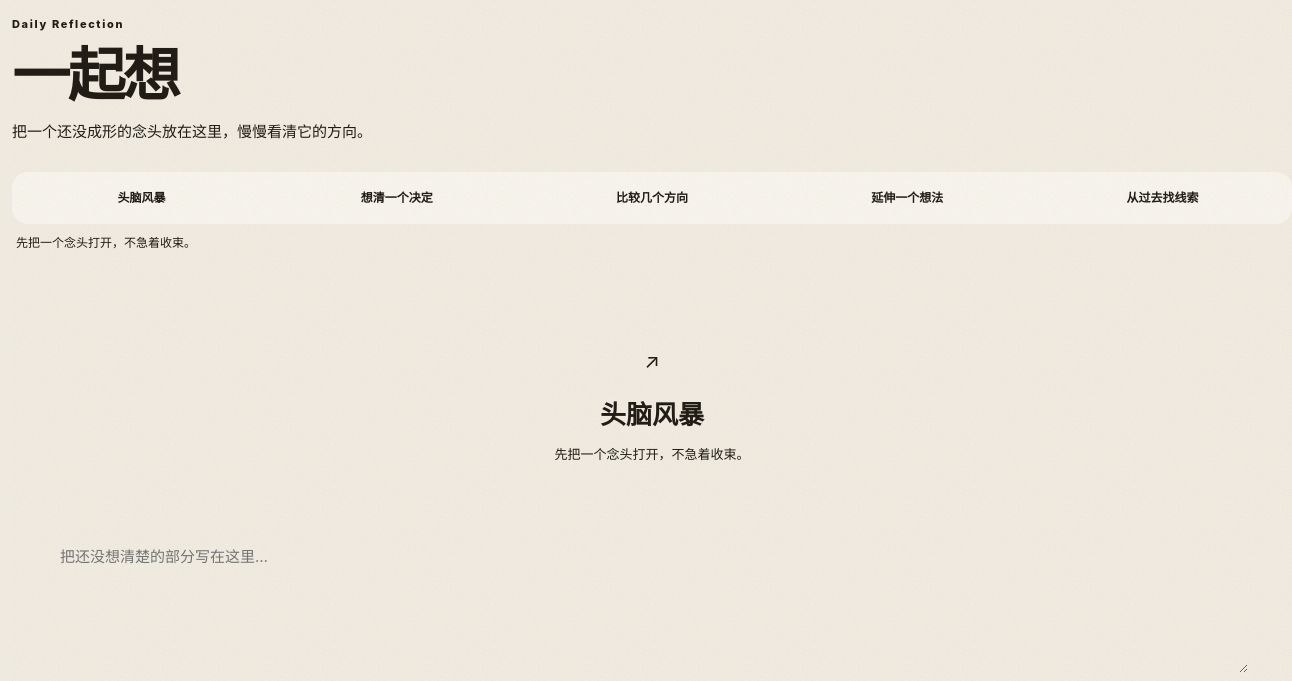
Test: Reflection thinking UI › uses personal retrieval by default for brainstorm but answers without a match
This screenshot has width=1292, height=681.
Step 1. Type "继续想这个问题。" into the text box named "想一起推演什么" → (652, 607), box [56,541,1248,673]
(page scrolled)
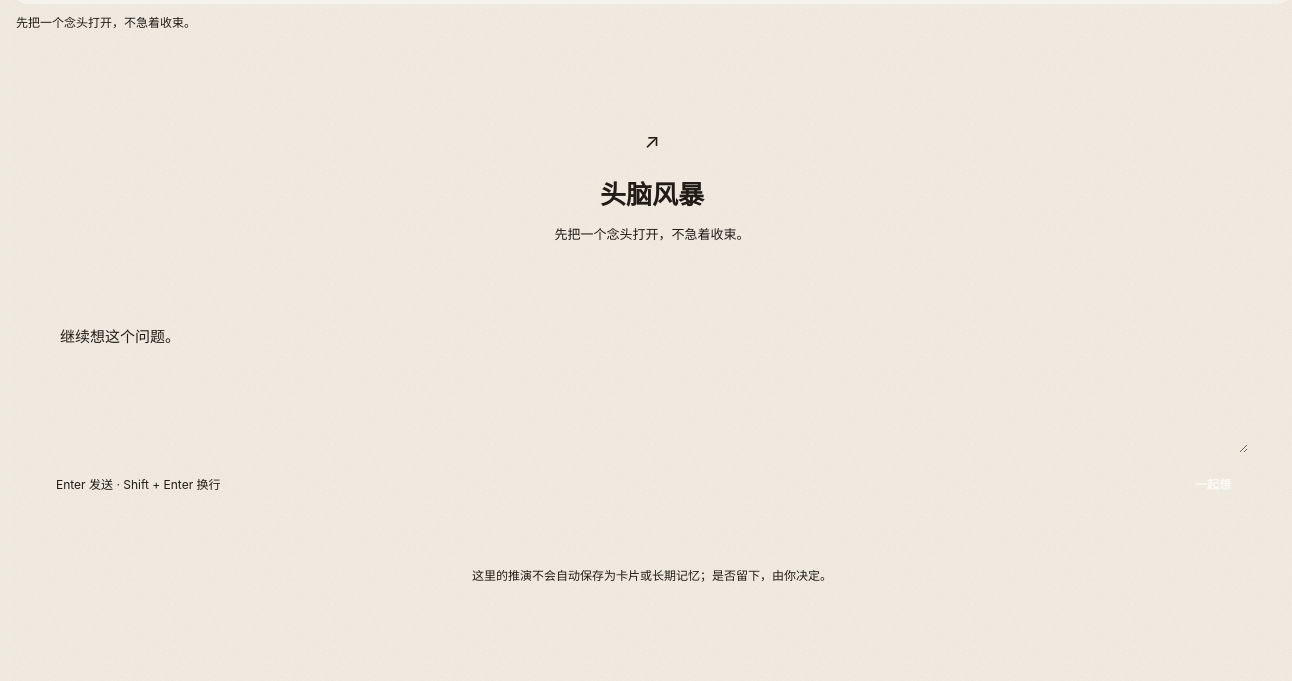
Step 2. Click the button "一起想" → (1213, 485), box [1178,463,1248,507]
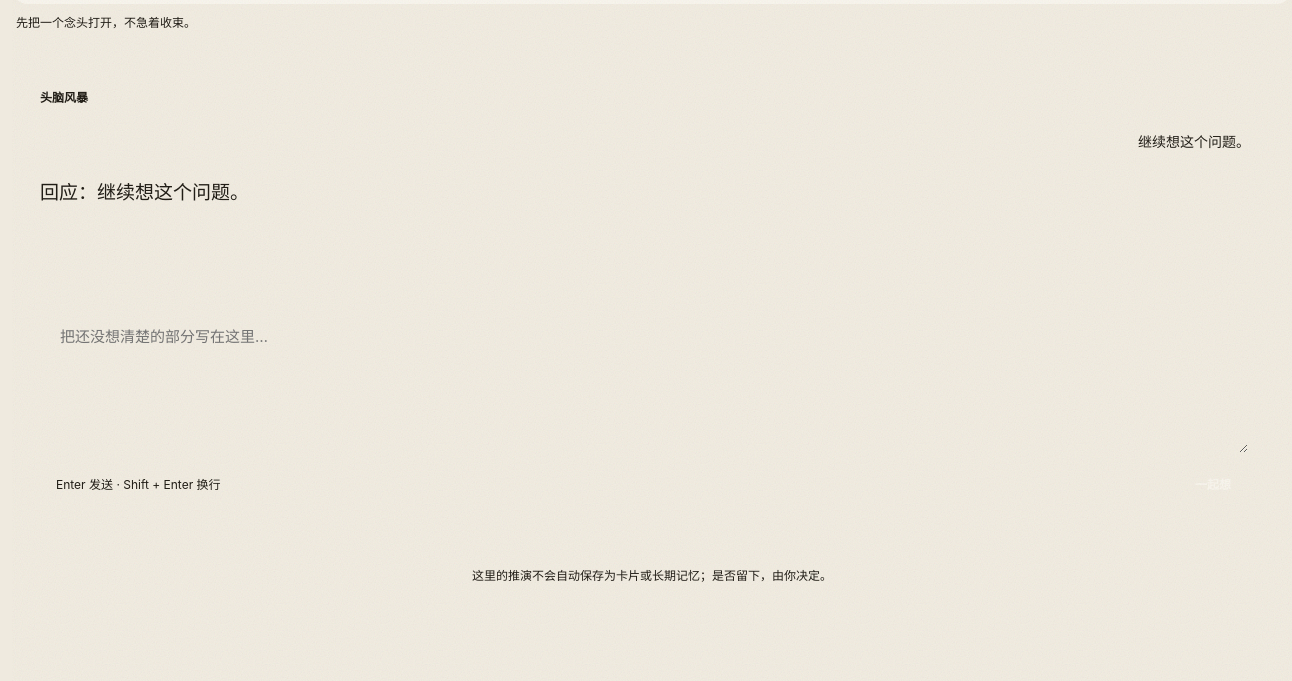
expect the text "回应：继续想这个问题。" is shown: met, box [40,182,249,203]
